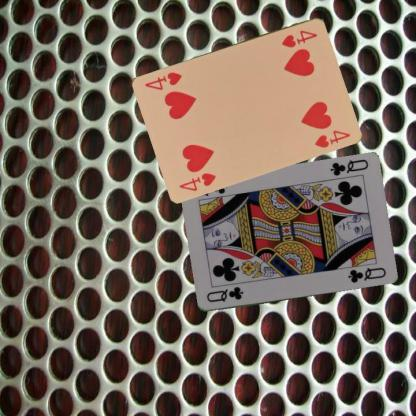4h: (278, 27, 319, 49), (177, 170, 218, 192)
Qc: (327, 156, 370, 178), (204, 284, 244, 304)
